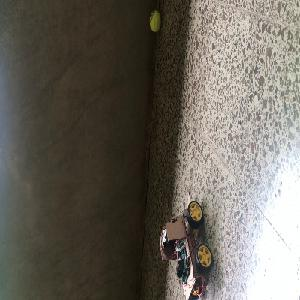Ball: (149, 12, 160, 32)
Robot: (158, 202, 214, 299)
